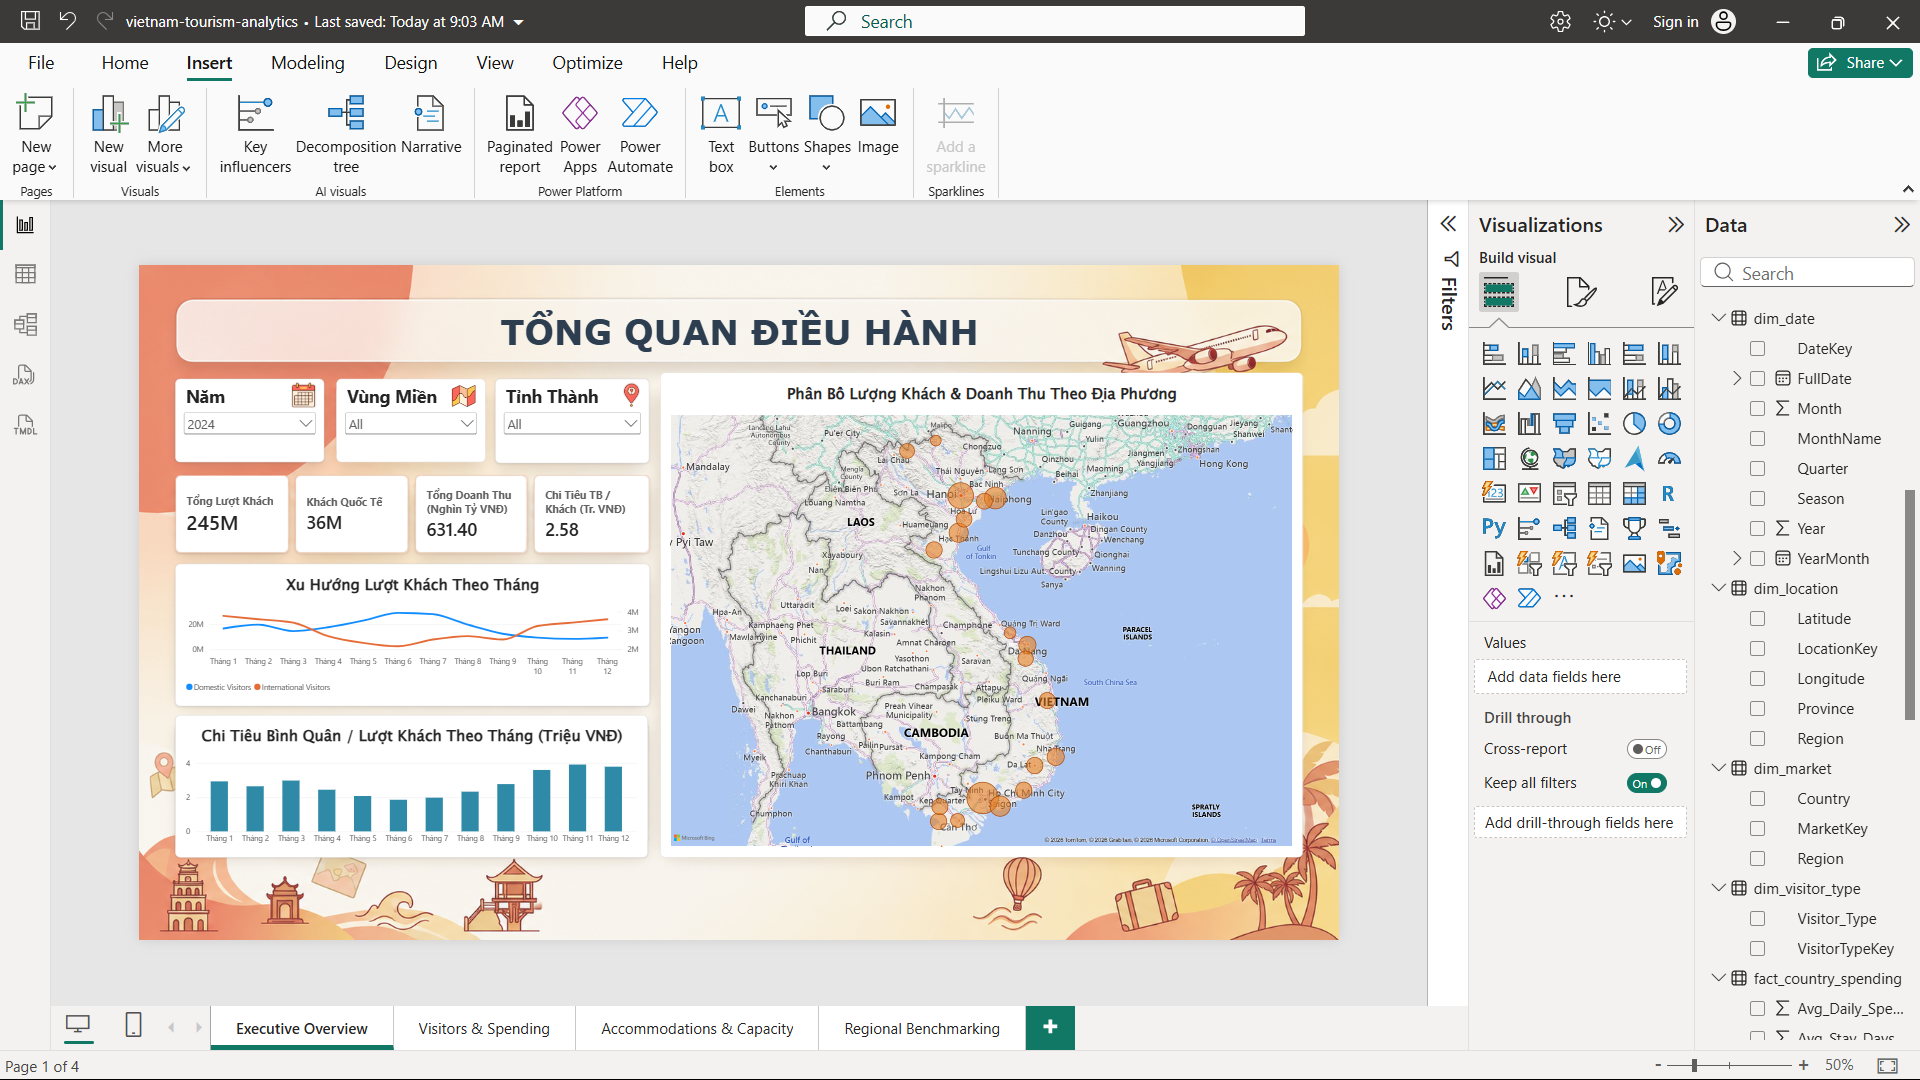

What the dashboard file says about the page in this screenshot:
{"tool":"powerbi","page":{"name":"Executive Overview","canvas":[1920,1080],"ordinal":0},"visuals":[{"type":"slicer","fields":{"Values":["dim_date.Year"]},"box":[57.7,182.3,238.5,133.8],"z":0},{"type":"slicer","fields":{"Values":["dim_location.Region"]},"box":[315.4,182.3,238.5,133.8],"z":1000},{"type":"slicer","fields":{"Values":["dim_location.Province"]},"box":[570,182.7,246.4,135.5],"z":2000},{"type":"cardVisual","fields":{"Data":["_Measures.Total Visitors"]},"box":[57.5,335,182.5,125],"z":3000},{"type":"cardVisual","fields":{"Data":["_Measures.International Visitors"]},"box":[250.9,335.5,181.8,125.5],"z":4000},{"type":"cardVisual","fields":{"Data":["_Measures.Total Revenue (Nghìn Tỷ)"]},"box":[441.8,335.5,180,125.5],"z":5000},{"type":"cardVisual","fields":{"Data":["_Measures.Spend Per Visitor (Mil VND)"]},"box":[631.8,335.5,185.5,125.5],"z":6000},{"type":"lineChart","title":"Xu Hướng Lượt Khách Theo Tháng","fields":{"Category":["dim_date.MonthName"],"Y":["_Measures.Domestic Visitors"],"Y2":["_Measures.International Visitors"]},"box":[57.8,477.8,758.9,227.8],"z":7000},{"type":"map","title":"Phân Bổ Lượng Khách & Doanh Thu Theo Địa Phương","fields":{"Size":["_Measures.Total Visitors"],"X":["dim_location.Longitude"],"Y":["dim_location.Latitude"]},"box":[834,172,1028,776],"z":8000},{"type":"textbox","box":[60,72,1802,84],"z":9000},{"type":"clusteredColumnChart","title":"Chi Tiêu Bình Quân / Lượt Khách Theo Tháng (Triệu VNĐ)","fields":{"Category":["dim_date.MonthName"],"Y":["_Measures.Spend Per Visitor (Mil VND)"]},"box":[58,720,756,228],"z":10000},{"type":"image","box":[226,180,76,50],"z":11000},{"type":"image","box":[472,188,96,44],"z":12000},{"type":"image","box":[740,188,94,42],"z":13000}]}

Visuals, with their boxes on the page's 1920x1080 design canvas (x1, y1, x2, y2). These are canvas units, not pixel positions in the 1920x1080 screenshot, which may show the page scaled, cropped or inside an application window:
slicer - dim_date.Year: 58/182/296/316
slicer - dim_location.Region: 315/182/554/316
slicer - dim_location.Province: 570/183/816/318
cardVisual - _Measures.Total Visitors: 58/335/240/460
cardVisual - _Measures.International Visitors: 251/336/433/461
cardVisual - _Measures.Total Revenue (Nghìn Tỷ): 442/336/622/461
cardVisual - _Measures.Spend Per Visitor (Mil VND): 632/336/817/461
"Xu Hướng Lượt Khách Theo Tháng" lineChart: 58/478/817/706
"Phân Bổ Lượng Khách & Doanh Thu Theo Địa Phương" map: 834/172/1862/948
textbox: 60/72/1862/156
"Chi Tiêu Bình Quân / Lượt Khách Theo Tháng (Triệu VNĐ)" clusteredColumnChart: 58/720/814/948
image: 226/180/302/230
image: 472/188/568/232
image: 740/188/834/230
